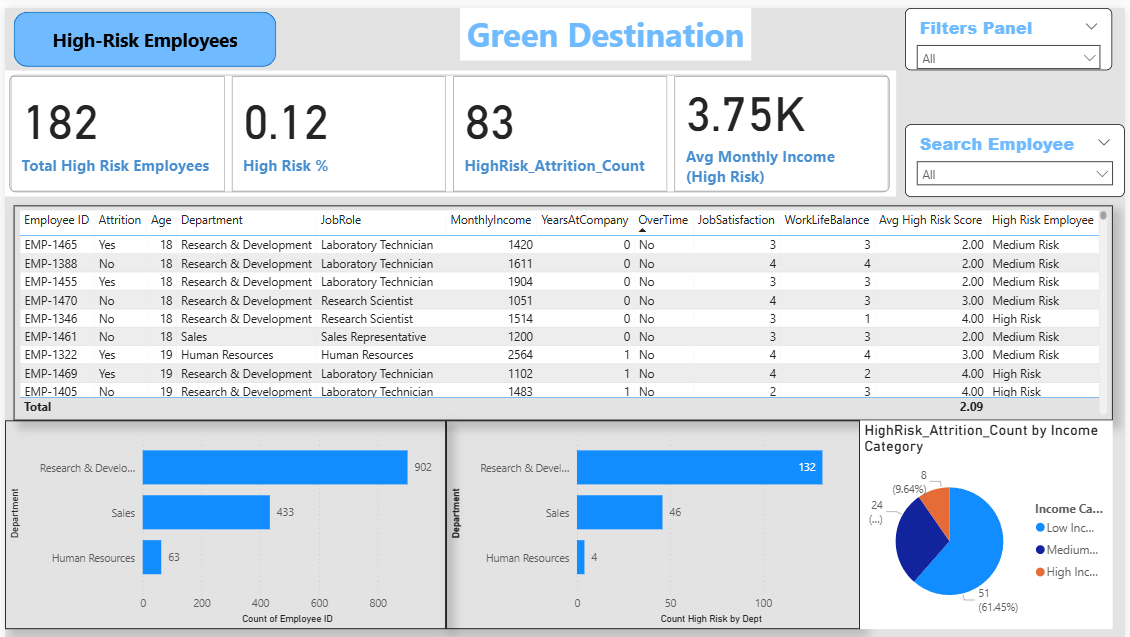

The dashboard page shown, as its layout file describes it:
{"tool":"powerbi","page":{"name":"High-Risk Employees","canvas":[1280,720],"ordinal":3},"visuals":[{"type":"textbox","box":[520,0,332.9,60],"z":1000},{"type":"slicer","fields":{"Values":["greendestination (2).Department","greendestination (2).JobRole","greendestination (2).OverTime","greendestination (2).Gender","greendestination (2).Income Category","greendestination (2).EducationField"]},"box":[1028.6,0,237.1,71.4],"z":6000},{"type":"shape","box":[10,4.3,300,62.9],"z":7000},{"type":"cardVisual","fields":{"Data":["greendestination (2).Total High Risk Employees","greendestination (2).High Risk %","greendestination (2).HighRisk_Attrition_Count","greendestination (2).Avg Monthly Income (High Risk)"]},"box":[0,71.4,1018.6,144.3],"z":7001},{"type":"tableEx","fields":{"Values":["greendestination (2).Employee ID","greendestination (2).Attrition","greendestination (2).Age","greendestination (2).Department","greendestination (2).JobRole","greendestination (2).MonthlyIncome","greendestination (2).YearsAtCompany","greendestination (2).OverTime","greendestination (2).JobSatisfaction","greendestination (2).WorkLifeBalance","greendestination (2).Avg High Risk Score","greendestination (2).High Risk Employee"]},"box":[10,225.7,1255.7,245.7],"z":7002},{"type":"clusteredBarChart","fields":{"Category":["greendestination (2).Department"],"Y":["Count(greendestination (2).Employee ID)"]},"box":[0,471.4,504.3,238.6],"z":7003},{"type":"slicer","fields":{"Values":["greendestination (2).Employee ID"]},"box":[1028.6,132.9,251.4,82.9],"z":7004},{"type":"barChart","fields":{"Category":["greendestination (2).Department"],"Y":["greendestination (2).Count High Risk by Dept"]},"box":[504.3,471.4,472.9,238.6],"z":7005},{"type":"pieChart","fields":{"Y":["greendestination (2).HighRisk_Attrition_Count"],"Category":["greendestination (2).Income Category"]},"box":[977,472,289,238],"z":7006}]}

Visuals, with their boxes in screenshot pixels (x1, y1, x2, y2), scaled from the page's 1280x720 canvas onto the 1130x637 screenshot:
textbox: [459,0,753,53]
slicer - greendestination (2).Department x greendestination (2).JobRole: [908,0,1117,63]
shape: [9,4,274,59]
cardVisual - greendestination (2).Total High Risk Employees x greendestination (2).High Risk %: [0,63,899,191]
tableEx - greendestination (2).Employee ID x greendestination (2).Attrition: [9,200,1117,417]
clusteredBarChart - greendestination (2).Department x Count(greendestination (2).Employee ID): [0,417,445,628]
slicer - greendestination (2).Employee ID: [908,118,1129,191]
barChart - greendestination (2).Department x greendestination (2).Count High Risk by Dept: [445,417,863,628]
pieChart - greendestination (2).HighRisk_Attrition_Count x greendestination (2).Income Category: [863,418,1118,628]
